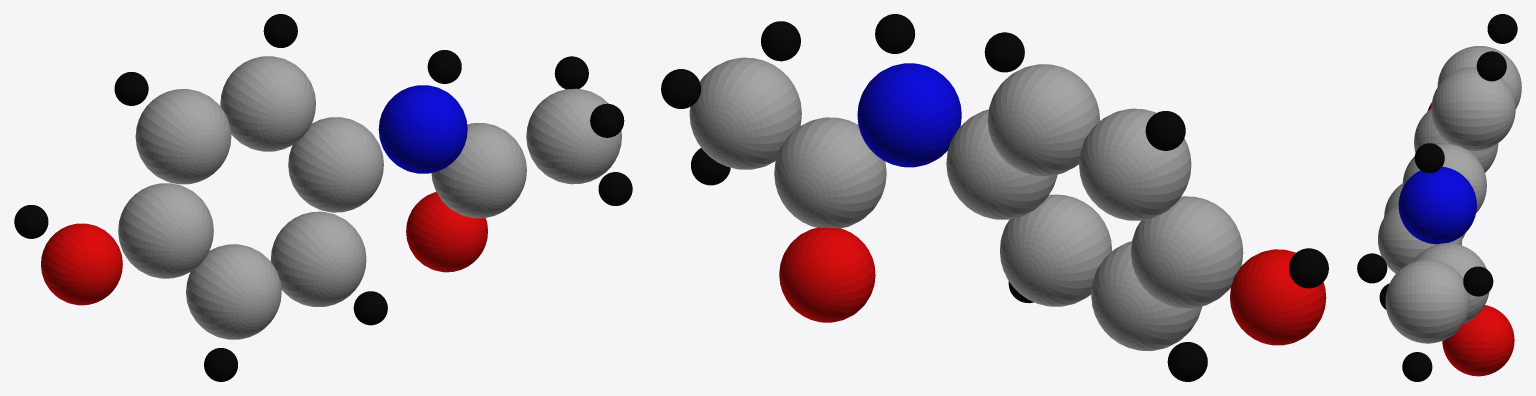
The model's file is Acetaminophen.glb.
The picture shows the model from 3 angles, left to right: view 1: azimuth 30°, elevation 25°; view 2: azimuth 150°, elevation 25°; view 3: azimuth 270°, elevation 25°; orthographic projection. The views are drawn at different scales.
Parts seen in each view (by area): view 1: world; view 2: world; view 3: world.
Boxes of the visible parts, bbox=[...] form: world: bbox=[14, 14, 632, 381]; world: bbox=[661, 14, 1328, 381]; world: bbox=[1357, 14, 1521, 381].
Size of the model in its own units: 9.73 by 4.89 by 2.73.
